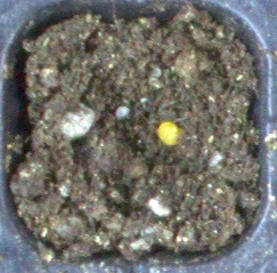pepper seed: (61, 48, 249, 195)
